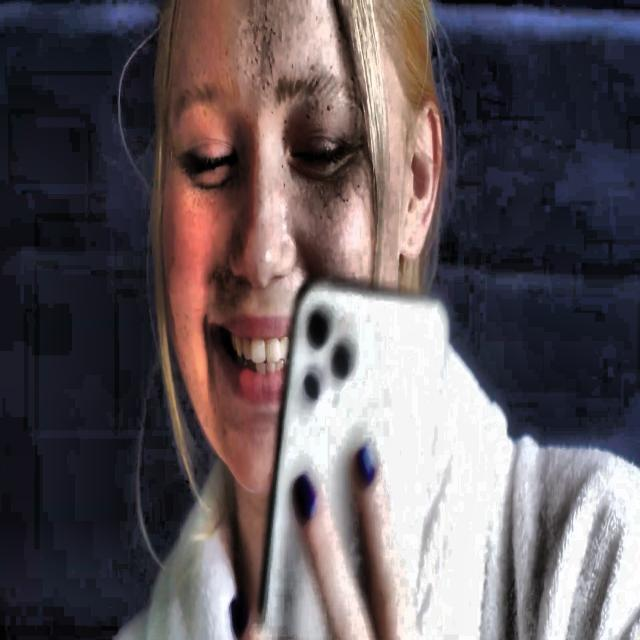Phone: (256, 279, 451, 640)
